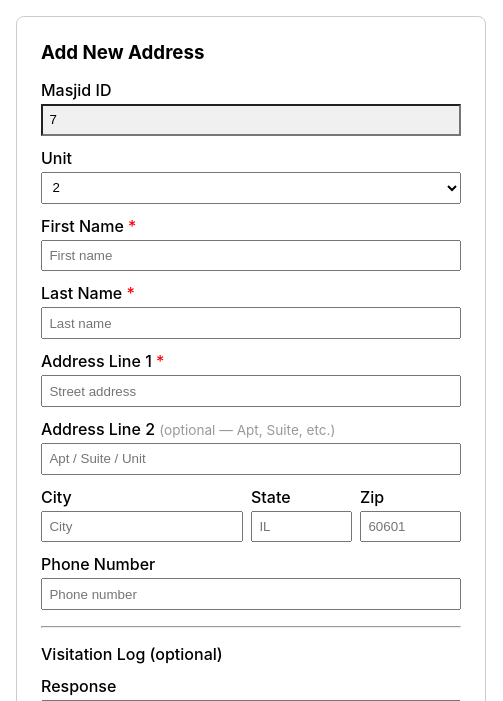
Scenario: AddAddress duplicate check › still lets the user create a new listing despite the warning
The image size is (503, 701).
Type "New" into the field with placeholder "First Name" at [251, 256], box [41,240,461,271]
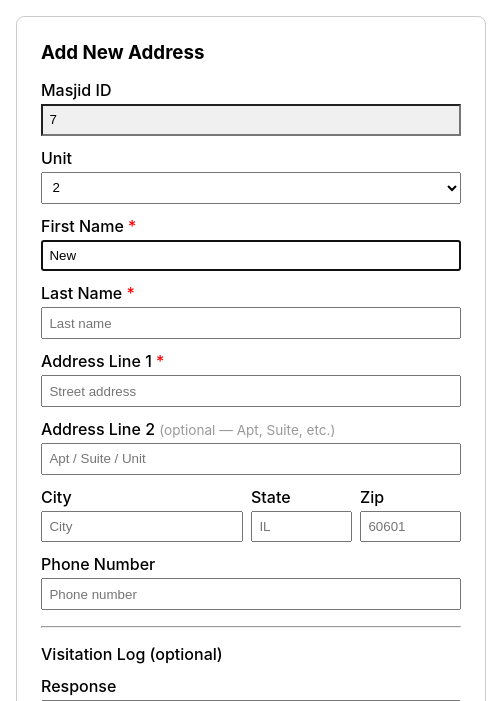
Type "Person" into the field with placeholder "Last Name" at [251, 323], box [41,307,461,339]
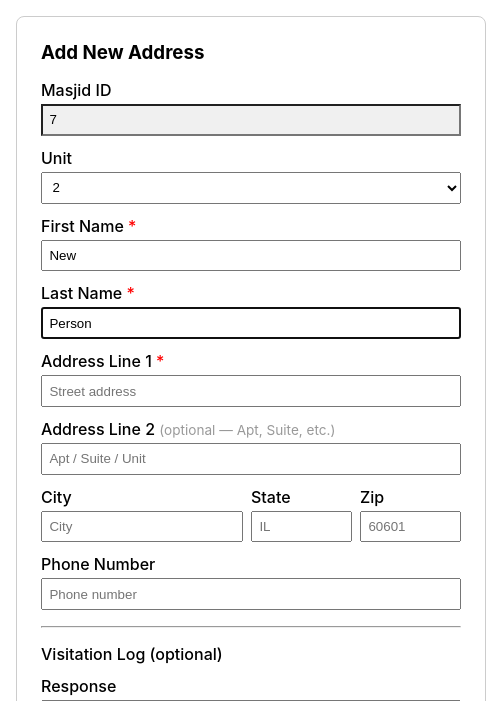
Type "123 Main St" into the field with placeholder "Street address" at [251, 391], box [41,375,461,407]
(page scrolled)
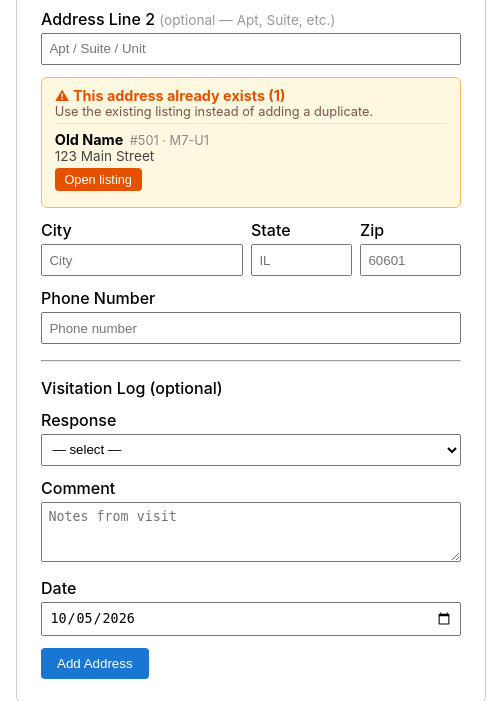
Expected: the text "⚠ This address already exists (1)" is shown, [55,87,285,104]
Click the button "Add Address" at [95, 663], box [41,648,149,679]
(page scrolled)
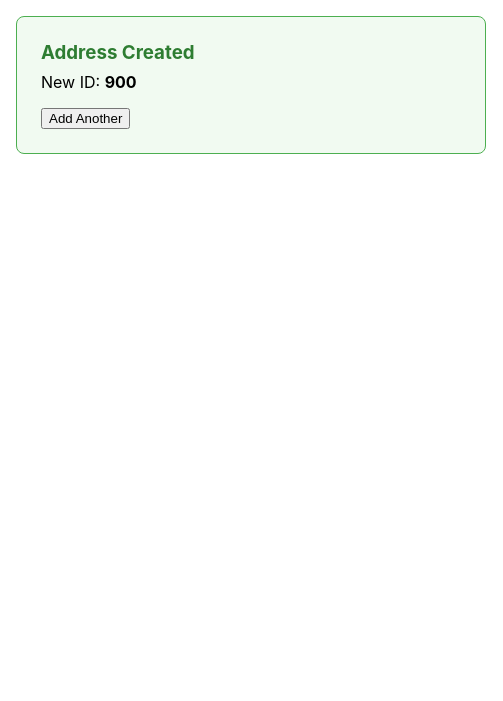
Expected: the heading "Address Created" is shown, [41,41,195,64]
